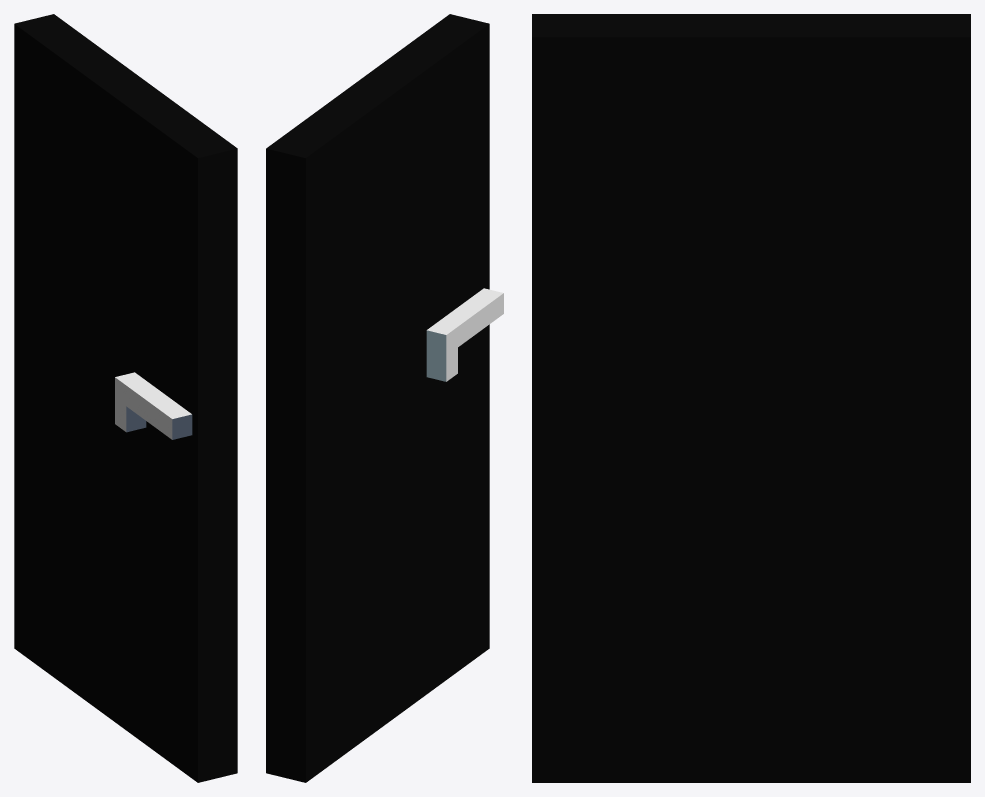
Rendered from porta.obj.
The picture shows the model from 3 angles, left to right: view 1: azimuth 30°, elevation 25°; view 2: azimuth 150°, elevation 25°; view 3: azimuth 270°, elevation 25°; orthographic projection. The views are drawn at different scales.
Visible parts, largest first — view 1: cuboid; view 2: cuboid; view 3: cuboid.
Boxes of the visible parts, x1,y1,x2,y2 form: cuboid: (14,14,237,782); cuboid: (266,14,503,782); cuboid: (532,14,970,782).
Size of the model in its own units: 0.1875 by 1.88 by 1.
